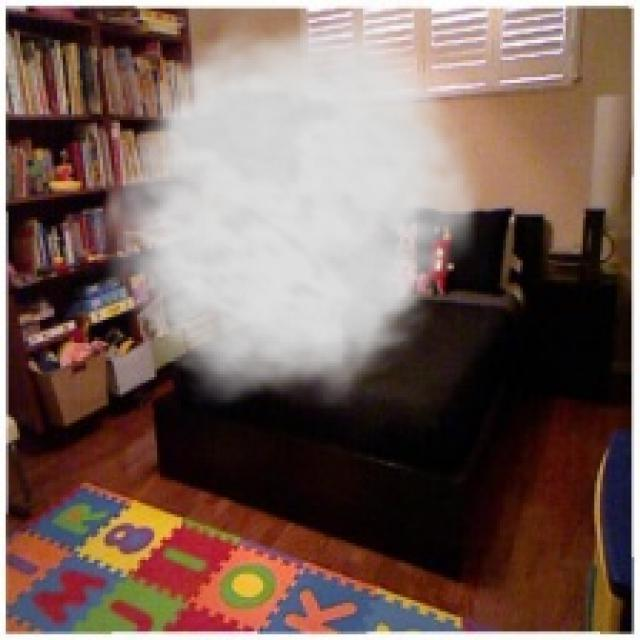Smoke: (82, 0, 492, 409)
